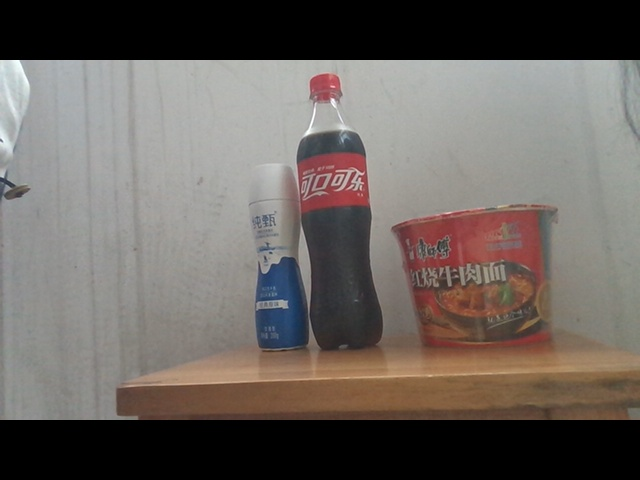cola: (297, 70, 386, 347)
kangshifu: (391, 202, 563, 348)
yogurt: (247, 163, 310, 351)
